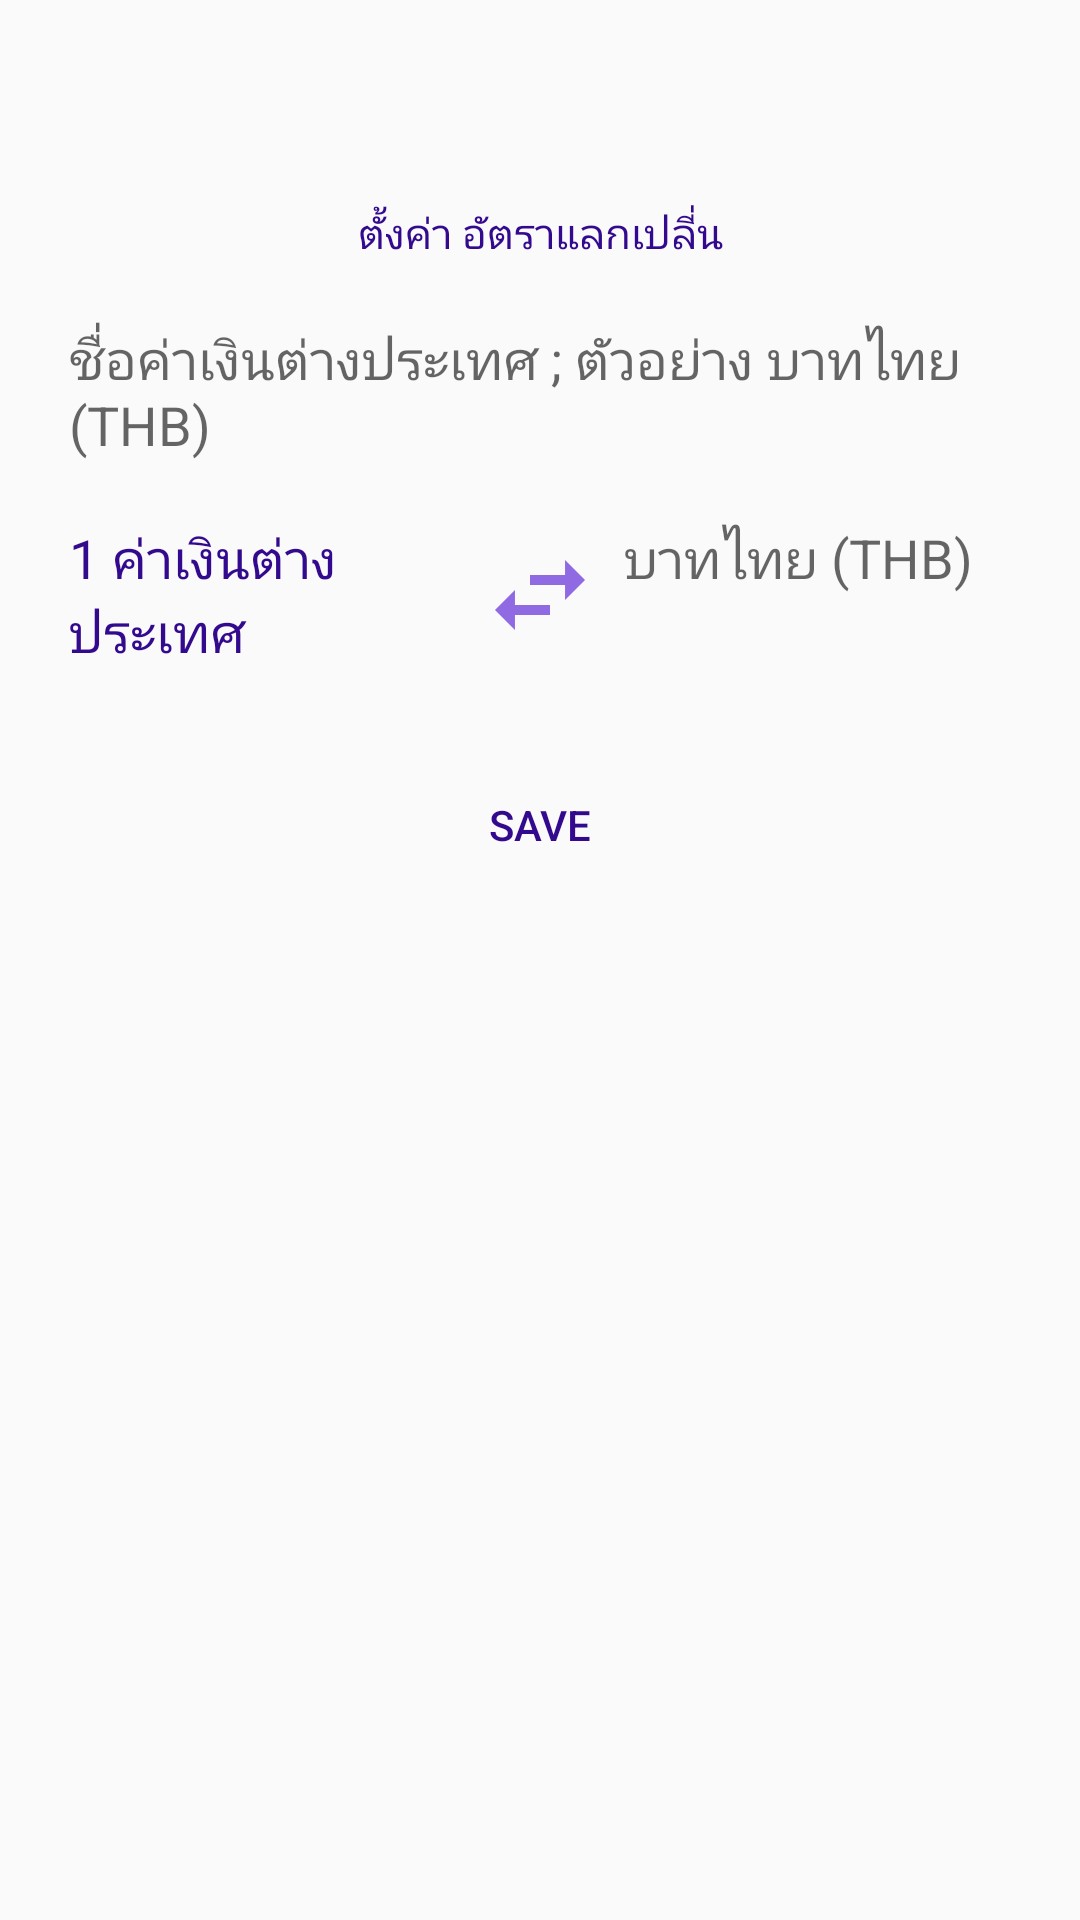

Where to tap for icons on this 1080w x 1920h app screen, as (x=x, y=y):
swap horiz: (x=540, y=595)
